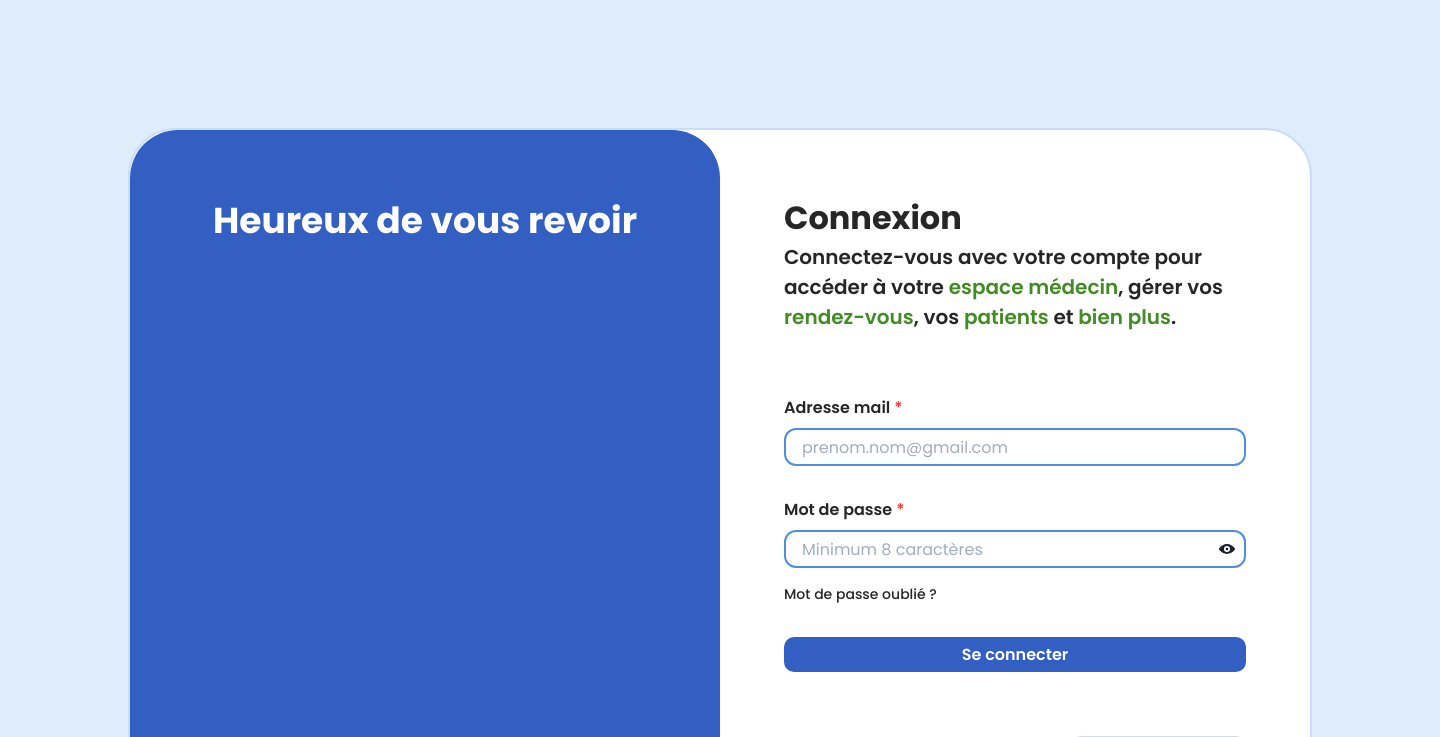
it: Login Page tests - Desktop › Working page › No password
Type "prenom.nom@test.fr" into the field with id "edgar-loginPage-formEmail-input". click: (1015, 447)
box: [784,428,1246,466]
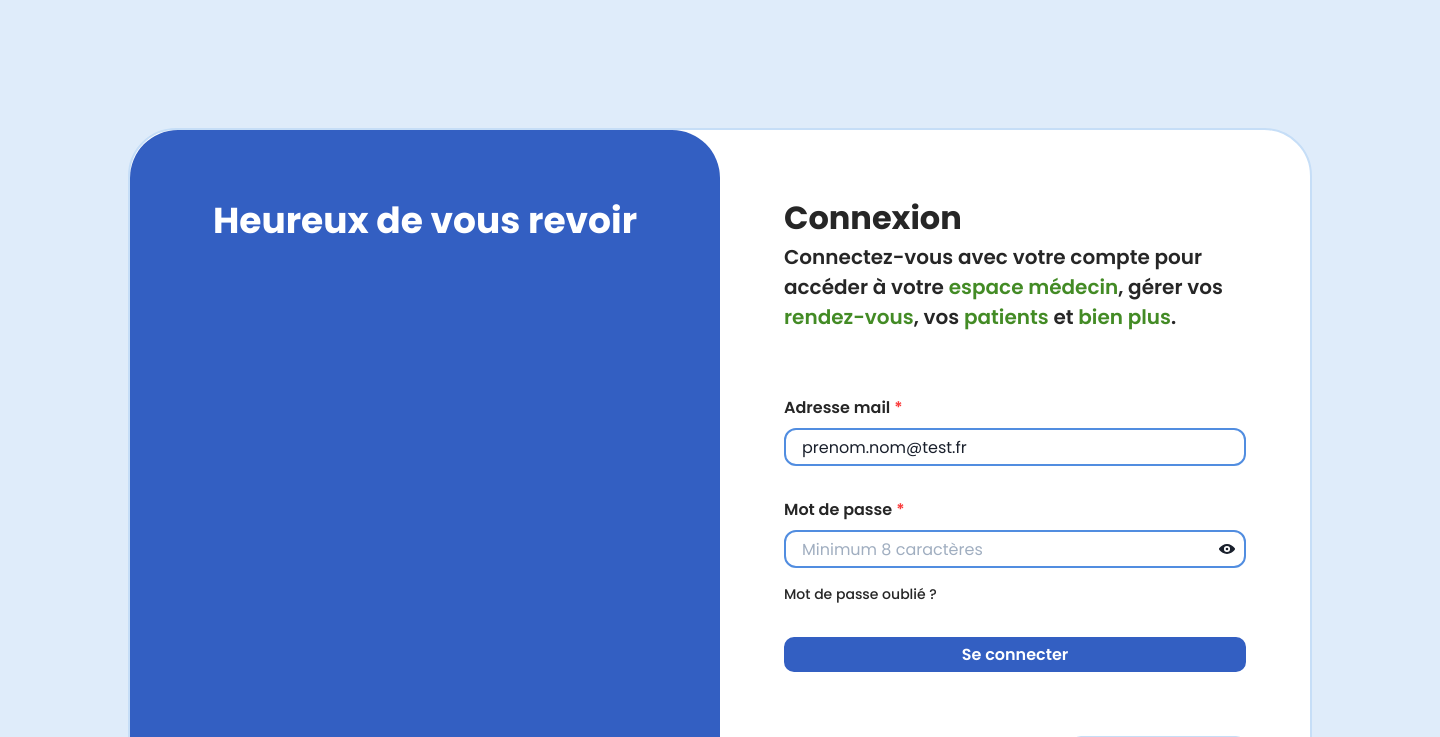
Click the button with id "edgar-loginPage-form-button". click: (1015, 655)
box: [784,637,1246,672]
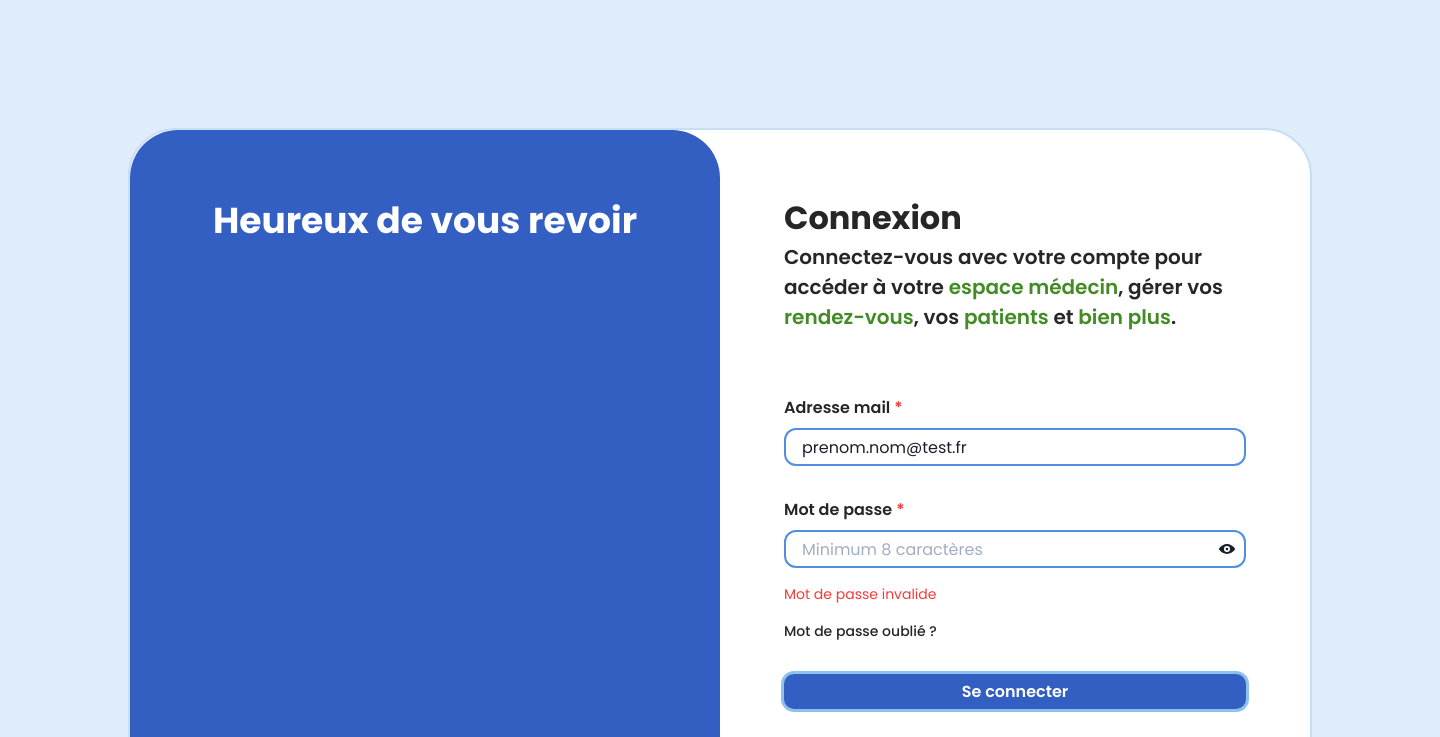
Result: the text with id "edgar-loginPage-formPasswordError-text" reads "Mot de passe invalide" at [784,584,937,605]
